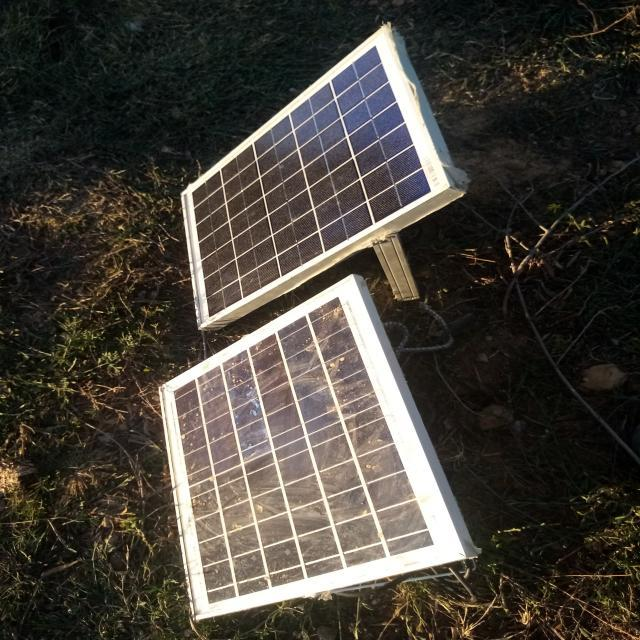faulty: (162, 278, 466, 618)
no faulty: (183, 26, 453, 323)
